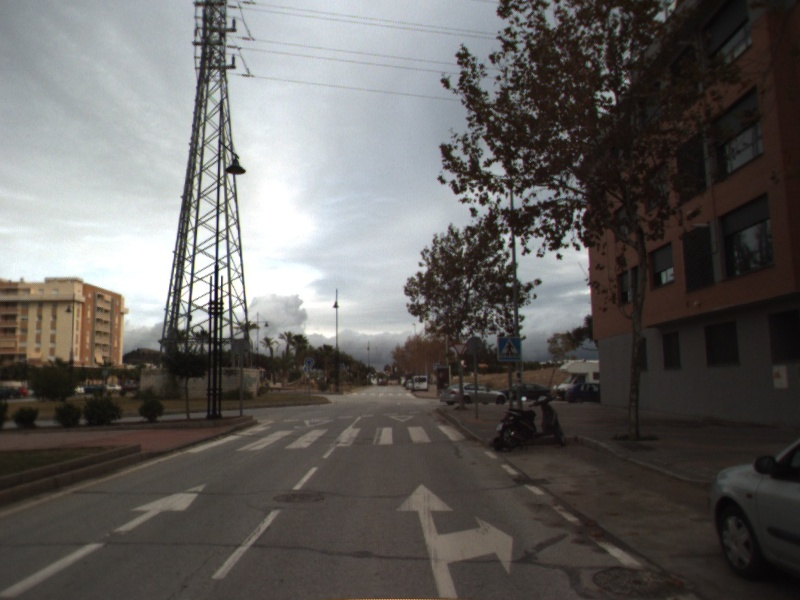STRAIGHT: (1, 480, 210, 599)
STRAIGHT_RIGHT: (394, 482, 516, 600)
